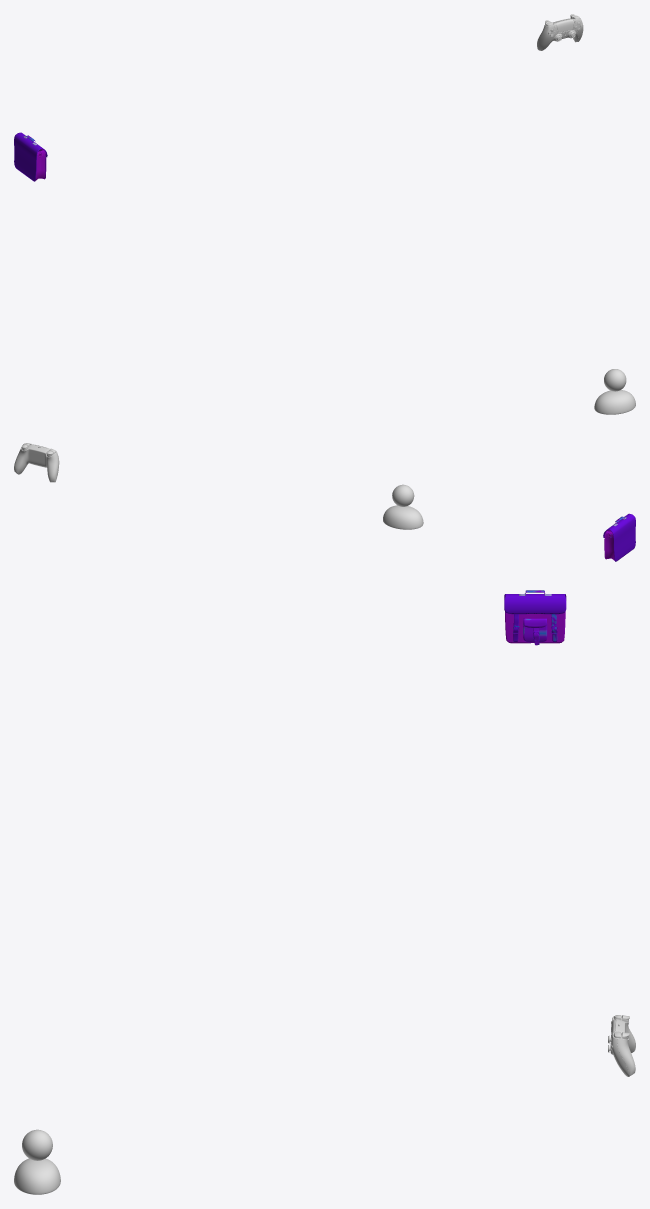
File: Interactables.gltf
The picture shows the model from 3 angles, top to bottom: view 1: azimuth 30°, elevation 25°; view 2: azimuth 150°, elevation 25°; view 3: azimuth 270°, elevation 25°; orthographic projection. The views are drawn at different scales.
Visible parts, largest first — view 1: AboutMe, Portfolio, Controller; view 2: AboutMe, Portfolio, Controller; view 3: Portfolio, AboutMe, Controller.
Part boxes in pixels (bbox=[...]): AboutMe: bbox=[594, 369, 635, 414]; Portfolio: bbox=[14, 132, 47, 181]; Controller: bbox=[537, 14, 583, 50]; AboutMe: bbox=[383, 484, 423, 529]; Portfolio: bbox=[603, 513, 635, 561]; Controller: bbox=[14, 443, 59, 482]; Portfolio: bbox=[504, 590, 566, 645]; AboutMe: bbox=[14, 1129, 60, 1194]; Controller: bbox=[608, 1015, 635, 1076].
Bounding box in the file's own units: 133 × 50.62 × 88.66.
